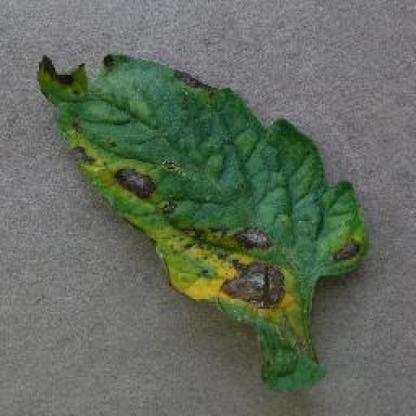Tomato_Blight: (35, 53, 370, 393)
